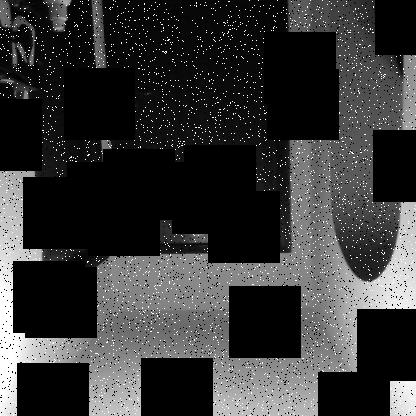Porte: (101, 1, 294, 258)
